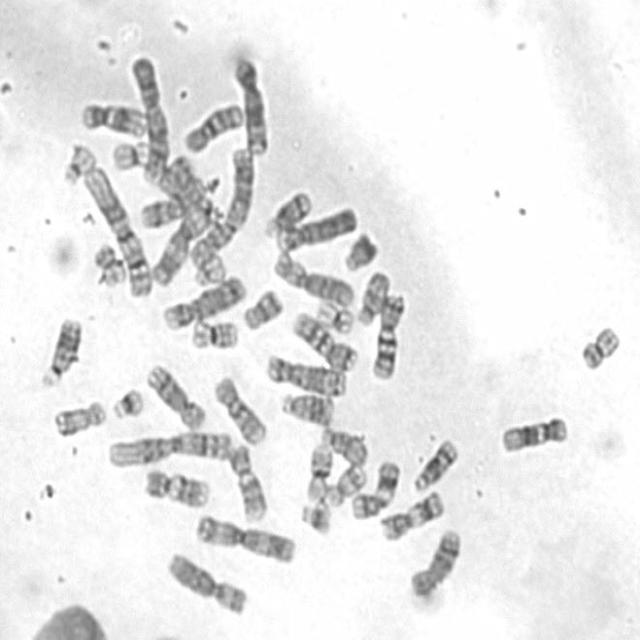A1: (77, 161, 154, 299), (102, 423, 235, 469)
A2: (183, 140, 256, 270), (124, 47, 171, 186)
A3: (144, 188, 218, 288), (190, 507, 298, 565)
B4: (156, 267, 248, 331), (272, 199, 359, 252)
B5: (226, 49, 271, 157), (259, 347, 349, 398)
C10: (208, 369, 268, 447), (178, 95, 245, 155)
C11: (375, 483, 446, 543), (345, 453, 402, 521)
C12: (495, 408, 570, 455), (74, 94, 148, 138)
C6: (160, 544, 250, 617), (267, 245, 356, 308)
C7: (286, 304, 359, 373), (366, 285, 408, 380)
C8: (141, 356, 208, 431), (404, 521, 463, 600)
C9: (223, 437, 268, 523), (138, 461, 212, 509)
D13: (34, 310, 84, 389), (275, 385, 336, 427)
D14: (408, 431, 460, 493), (258, 183, 315, 238)
D15: (350, 263, 392, 327), (315, 420, 369, 468)
E16: (300, 437, 335, 502), (184, 312, 240, 351)
E17: (48, 392, 108, 439), (323, 459, 368, 508)
E18: (237, 282, 284, 331), (134, 199, 189, 231)
F19: (310, 293, 356, 335), (106, 133, 149, 172)
F20: (575, 318, 621, 372), (88, 235, 128, 288)
G21: (294, 495, 334, 537), (106, 380, 146, 421)
G22: (55, 136, 97, 186), (186, 247, 228, 288)
X: (158, 154, 220, 223)
Y: (338, 225, 380, 273)
